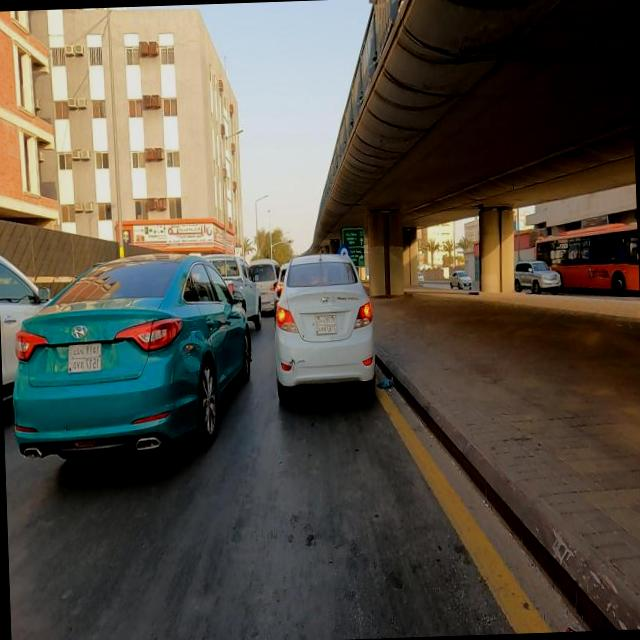debris: (358, 334, 420, 423)
